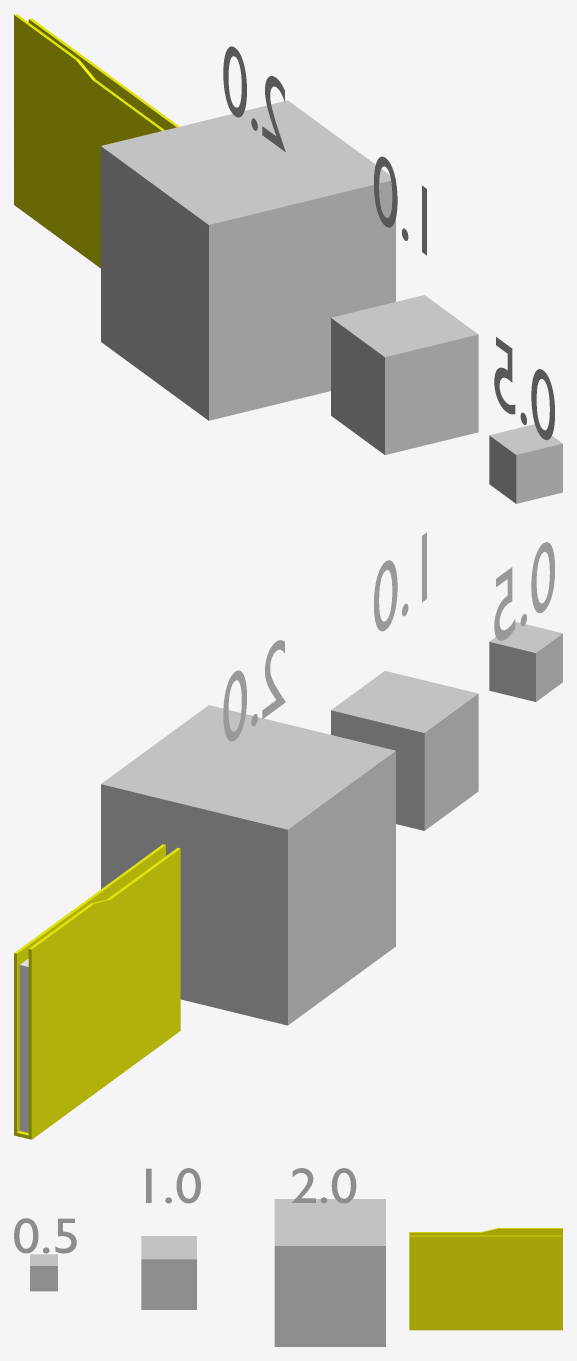
Rendered from folder3d v1.fbx.
3 renders of one model, top to bottom at view 1: azimuth 30°, elevation 25°; view 2: azimuth 150°, elevation 25°; view 3: azimuth 270°, elevation 25°, orthographic. The views are drawn at different scales.
Parts seen in each view (by area): view 1: Cube.001, Cube, Cube.002, Cube.003, Text, Text.002, Text.001; view 2: Cube.001, Cube, Cube.002, Cube.003, Text, Text.002, Text.001; view 3: Cube.001, Cube, Cube.002, Cube.003, Text, Text.002, Text.001.
Part boxes in pixels (bbox=[...]): Cube.001: bbox=[101, 100, 395, 420]; Cube: bbox=[14, 14, 179, 268]; Cube.002: bbox=[331, 295, 478, 454]; Cube.003: bbox=[489, 424, 562, 503]; Text: bbox=[494, 337, 554, 440]; Text.002: bbox=[223, 46, 285, 151]; Text.001: bbox=[374, 156, 426, 255]; Cube.001: bbox=[101, 705, 395, 1025]; Cube: bbox=[14, 844, 180, 1139]; Cube.002: bbox=[331, 671, 478, 830]; Cube.003: bbox=[489, 622, 562, 701]; Text: bbox=[494, 542, 554, 640]; Text.002: bbox=[223, 640, 285, 741]; Text.001: bbox=[374, 532, 426, 631]; Cube.001: bbox=[274, 1199, 385, 1346]; Cube: bbox=[409, 1228, 562, 1330]; Cube.002: bbox=[141, 1236, 196, 1309]; Cube.003: bbox=[30, 1254, 57, 1291]; Text: bbox=[14, 1218, 76, 1253]; Text.002: bbox=[292, 1168, 356, 1203]; Text.001: bbox=[146, 1168, 200, 1203].
Size of the model in its own units: 200 by 317 by 985.
1 material, 1 textured.
